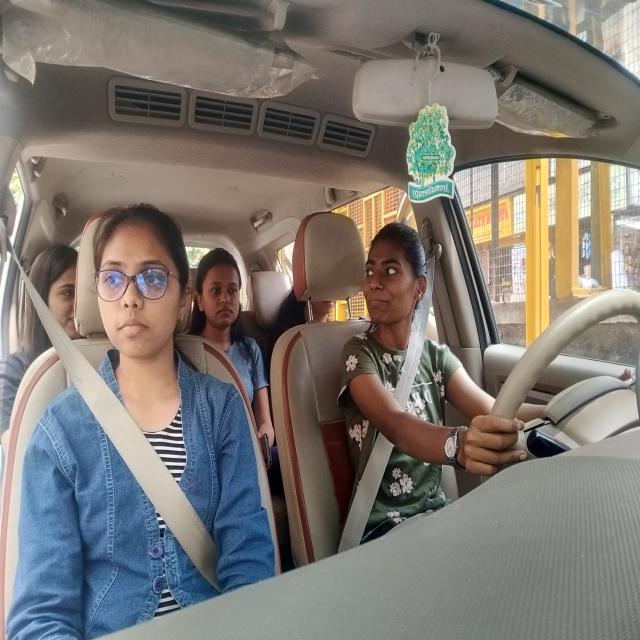LeftRight: (363, 218, 429, 343)
person: (94, 196, 197, 386), (27, 243, 78, 360), (197, 242, 249, 347)
